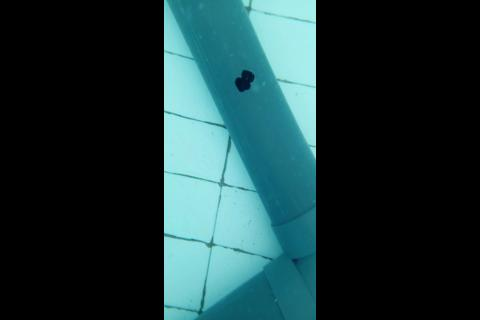kebocoran: (234, 68, 255, 95)
